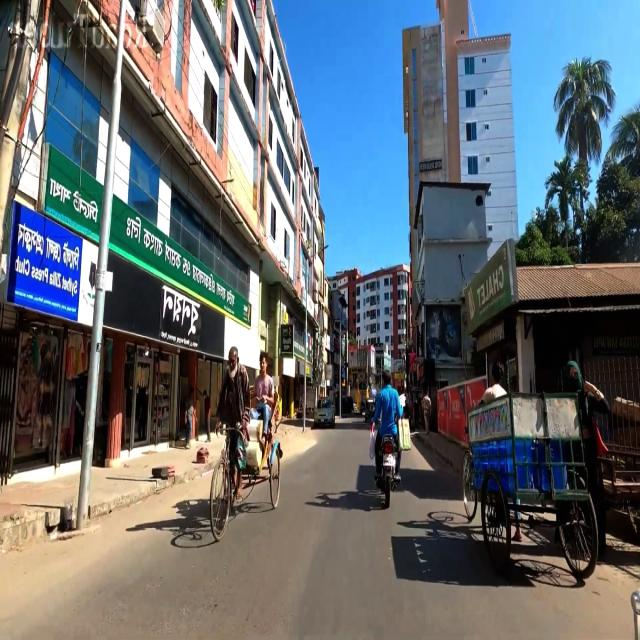silver: (313, 396, 336, 426)
